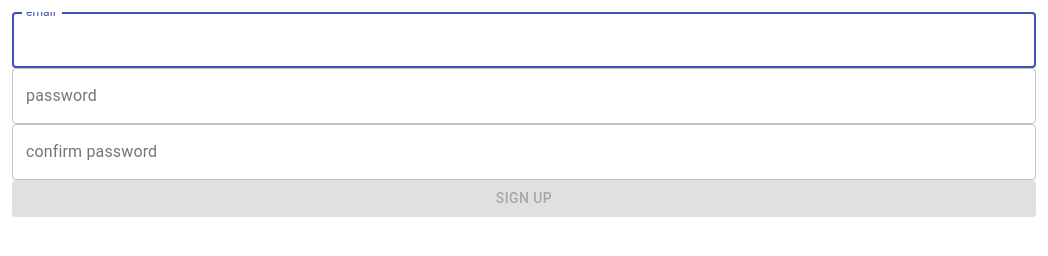
Test case: if email is not valid, displays validation error
This screenshot has width=1048, height=256.
Step 1. Type "email" into the field labelled "email" → x=524, y=40, box x1=12 y1=12 x2=1036 y2=68
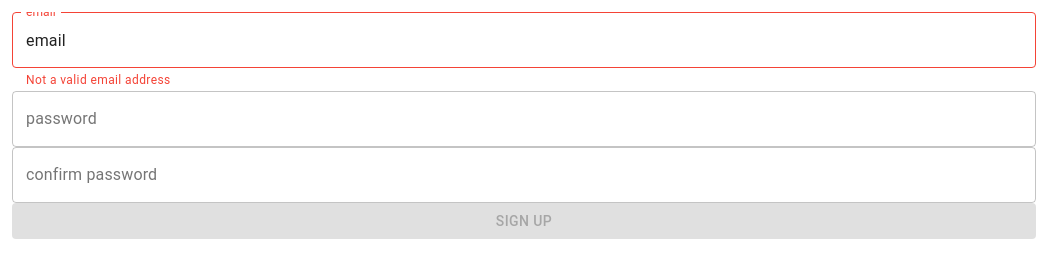
Check: the text "Not a valid email address" is shown, box x1=26 y1=73 x2=171 y2=87
